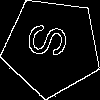S: (27, 22, 77, 61)
